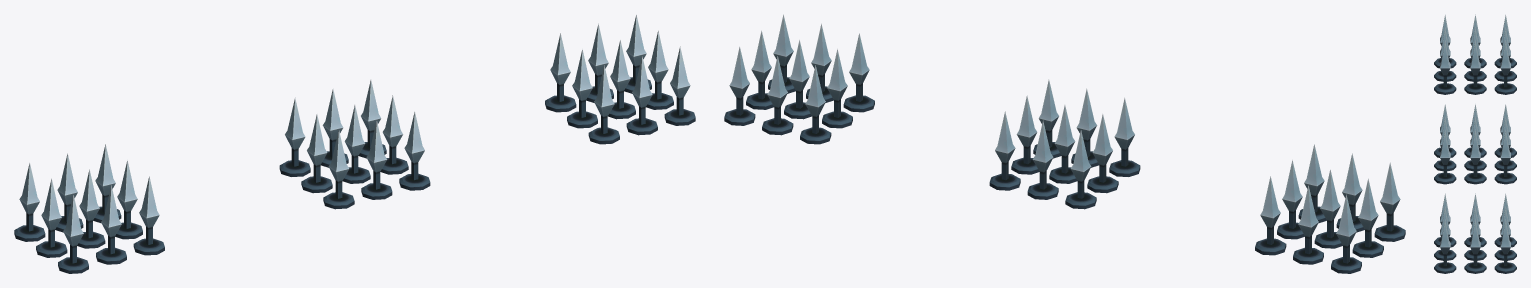
Rendered from trap.fbx.
The picture shows the model from 3 angles, left to right: view 1: azimuth 30°, elevation 25°; view 2: azimuth 150°, elevation 25°; view 3: azimuth 270°, elevation 25°; orthographic projection. The views are drawn at different scales.
Visible parts, largest first — view 1: Dummy001 (×27), jianci (6) (×3), jianci (7) (×3), jianci (11) (×3), jianci (×3), jianci (2) (×2); view 2: Dummy001 (×27), jianci (6) (×3), jianci (2) (×3), jianci (13) (×3), jianci (5) (×3), jianci (7) (×2); view 3: Dummy001 (×27), jianci (12) (×3), jianci (11) (×3), jianci (13) (×3), jianci (×3), jianci (5) (×3), jianci (4) (×3), jianci (6) (×3), jianci (2) (×3), jianci (7) (×3).
Boxes of the visible parts, box(x1,y1,x2,y2) form: Dummy001 (×27): box(19, 14, 690, 263); jianci (6) (×3): box(36, 111, 597, 257); jianci (7) (×3): box(14, 95, 576, 241); jianci (11) (×3): box(133, 109, 695, 255); jianci (×3): box(96, 118, 657, 264); jianci (2) (×2): box(323, 127, 619, 209); Dummy001 (×27): box(729, 14, 1400, 263); jianci (6) (×3): box(822, 111, 1383, 257); jianci (2) (×3): box(843, 95, 1405, 241); jianci (13) (×3): box(724, 109, 1286, 255); jianci (5) (×3): box(762, 118, 1323, 264); jianci (7) (×2): box(800, 127, 1096, 209); Dummy001 (×27): box(1440, 14, 1510, 266); jianci (12) (×3): box(1464, 83, 1486, 273); jianci (11) (×3): box(1434, 83, 1456, 273); jianci (13) (×3): box(1494, 83, 1516, 273); jianci (×3): box(1434, 71, 1456, 260); jianci (5) (×3): box(1494, 71, 1516, 260); jianci (4) (×3): box(1464, 71, 1486, 260); jianci (6) (×3): box(1464, 58, 1486, 247); jianci (2) (×3): box(1434, 58, 1456, 247); jianci (7) (×3): box(1494, 58, 1516, 247).
Size of the model in its own units: 16.74 by 1.85 by 2.74.
